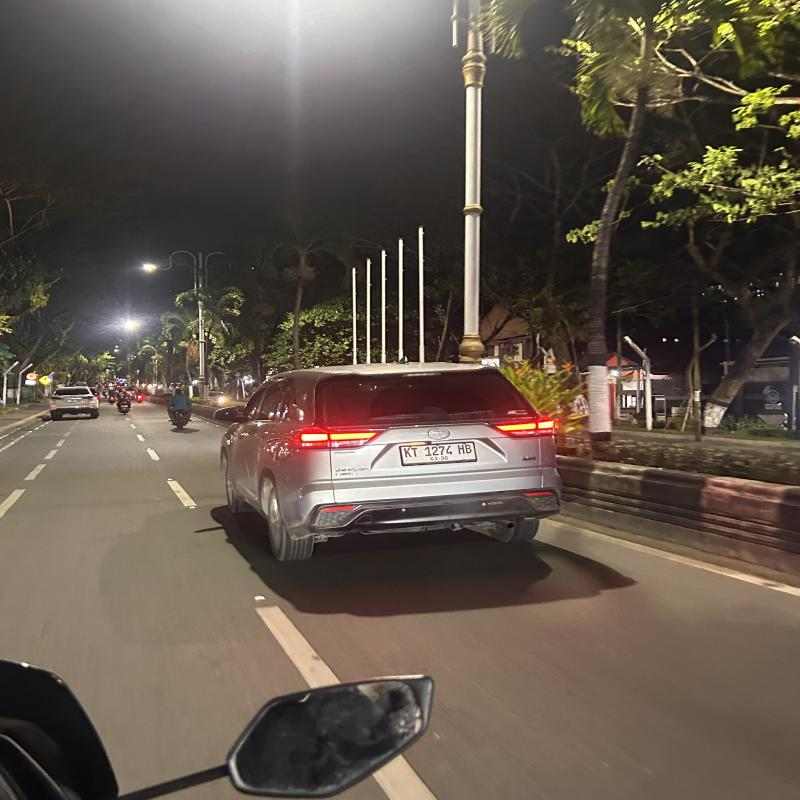license plate on a car: (399, 443, 484, 464)
